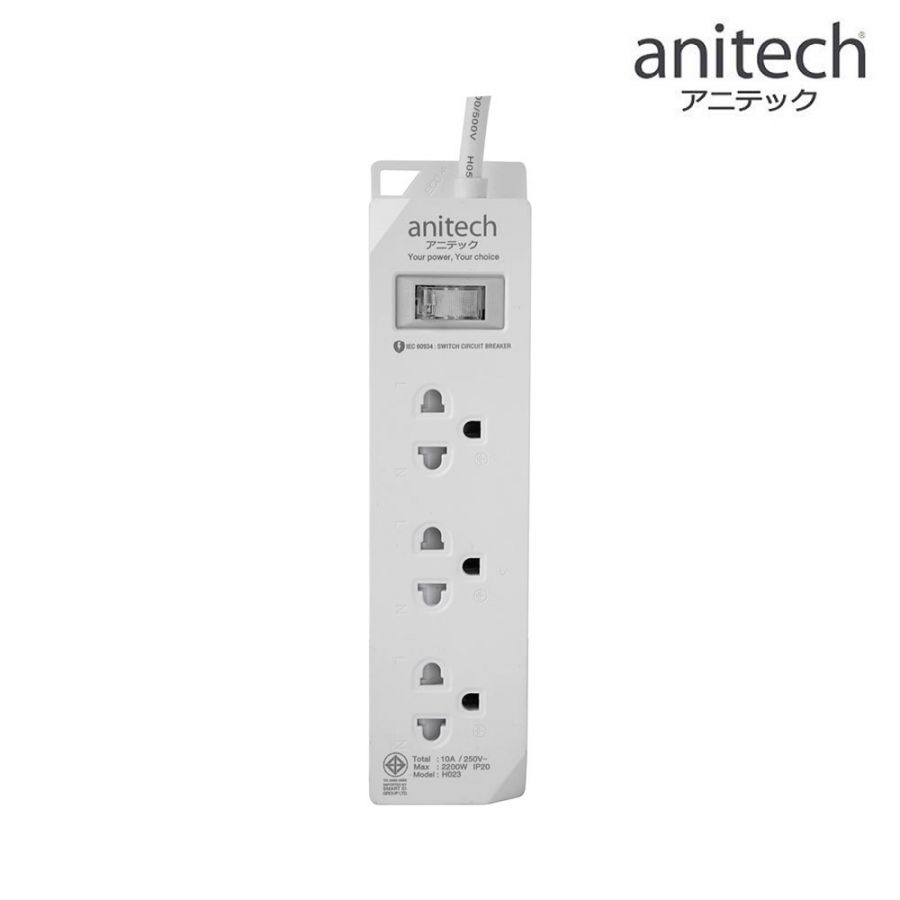Three_eye_plug: (348, 169, 545, 825)
